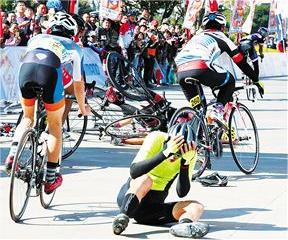bending: (3, 13, 86, 202), (174, 12, 262, 141), (113, 123, 206, 235)
